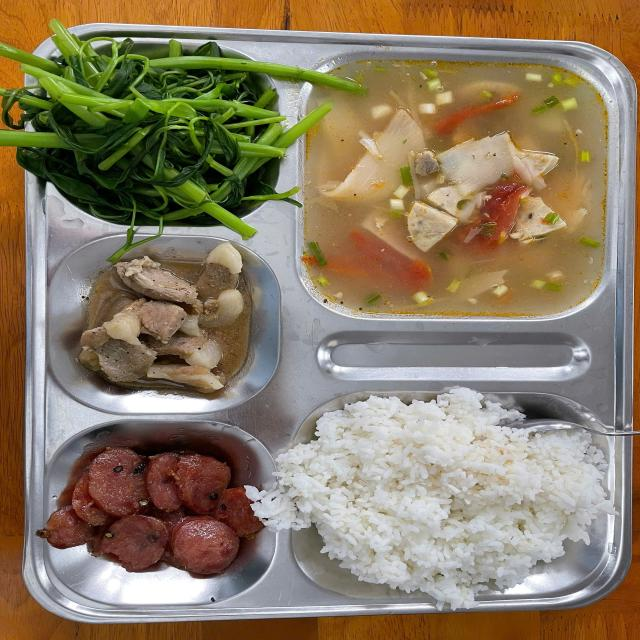canhchua: (310, 64, 613, 314)
lapxuong: (61, 446, 249, 578)
rauxao: (28, 39, 277, 222)
salad: (297, 402, 592, 581)
thitkhogung: (70, 258, 256, 393)
